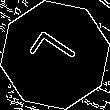L_SE: (25, 28, 85, 82)
